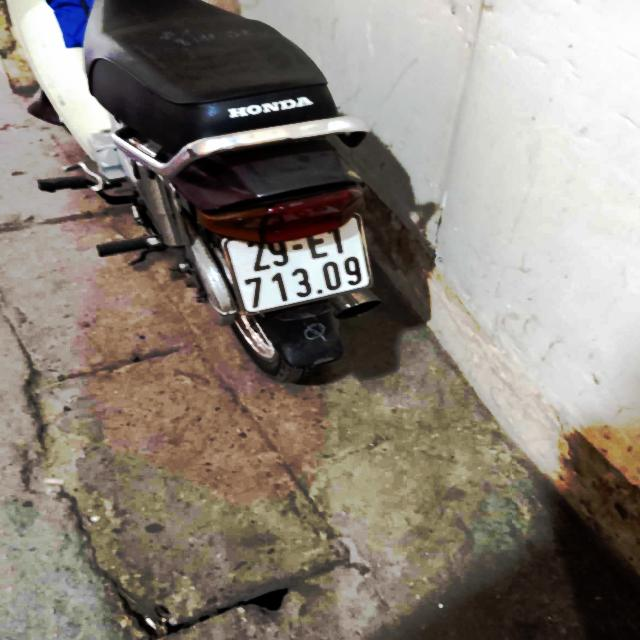license_plate: (211, 201, 388, 326)
